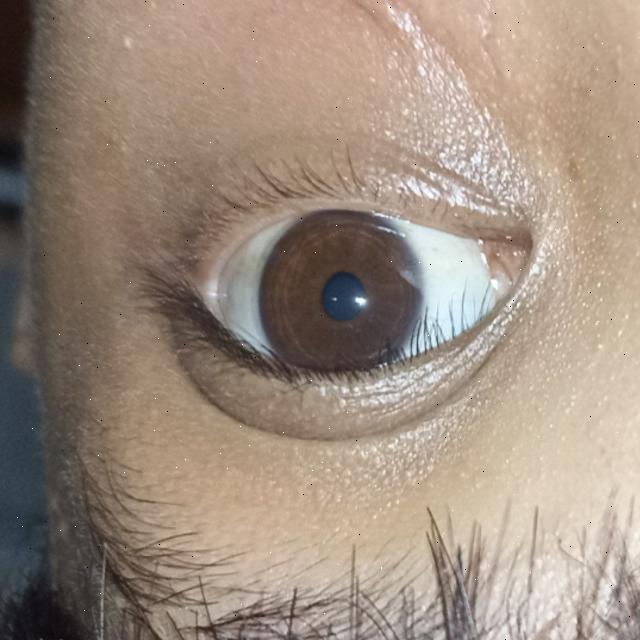Normal: (258, 208, 427, 387)
